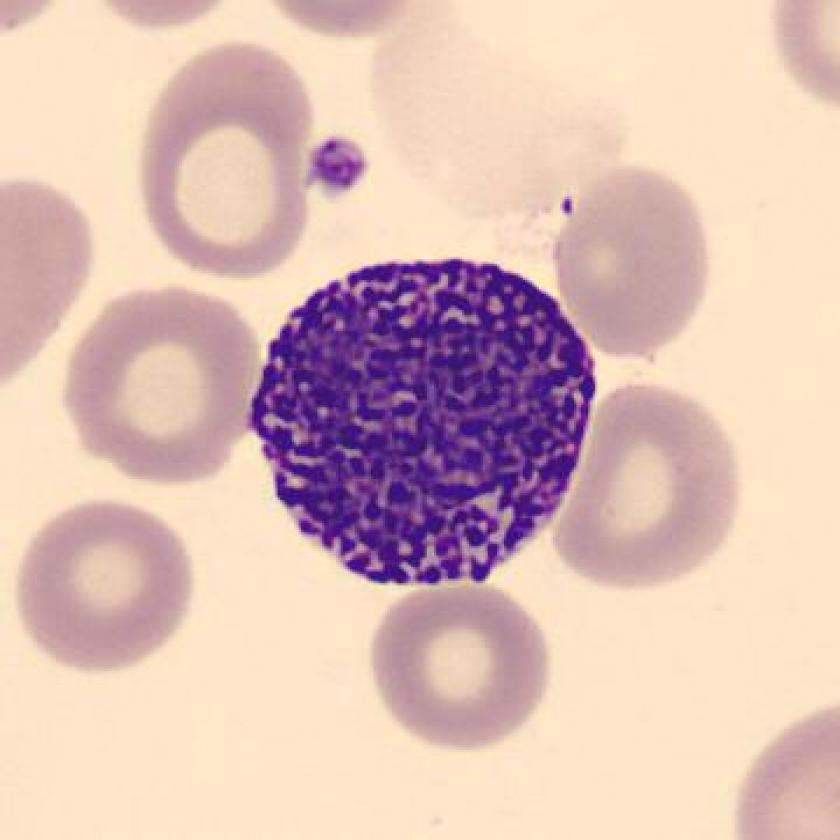basophil: (241, 242, 610, 591)
